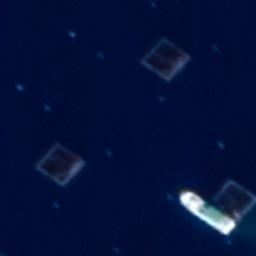square_cover: (30, 139, 91, 192), (136, 34, 193, 86), (203, 175, 256, 229)
